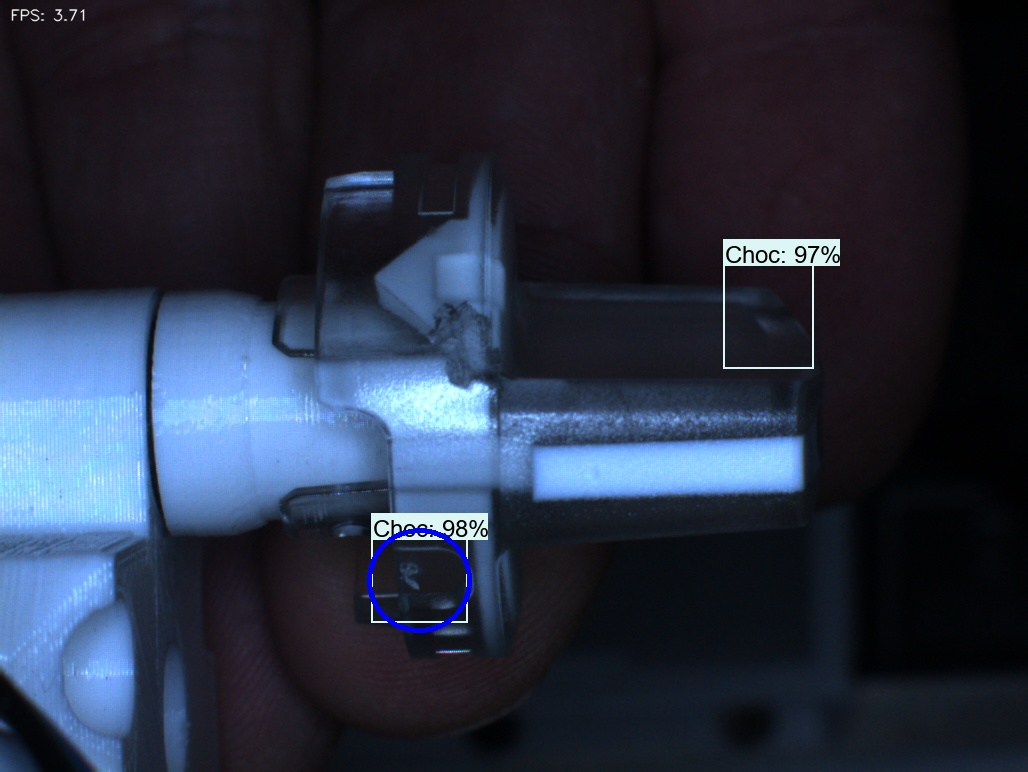DentOk: (343, 233, 427, 328)
